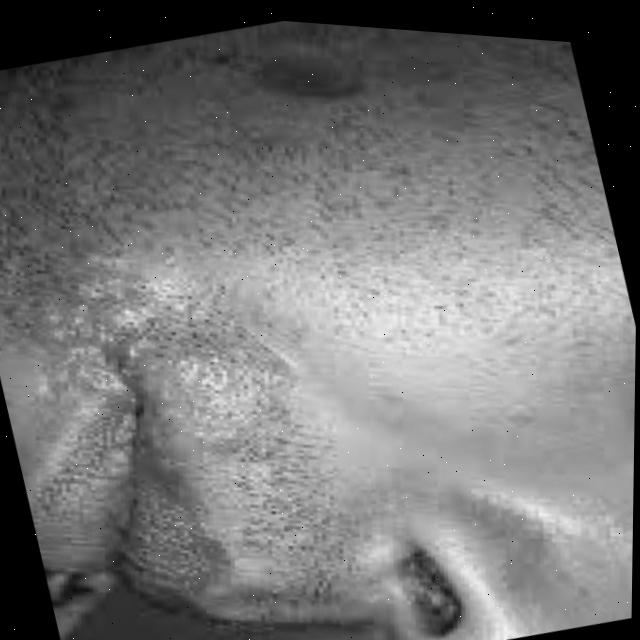Eczema: (52, 252, 253, 476)
